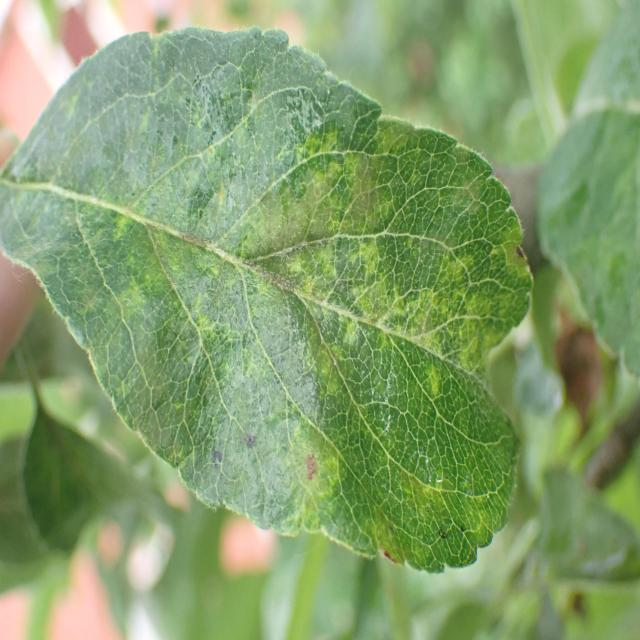scab: (36, 72, 525, 538)
